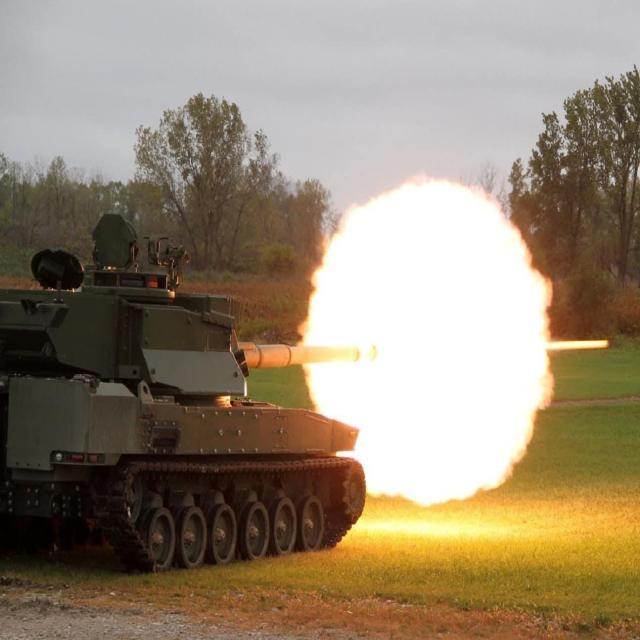MIL_MBT: (4, 230, 369, 566)
